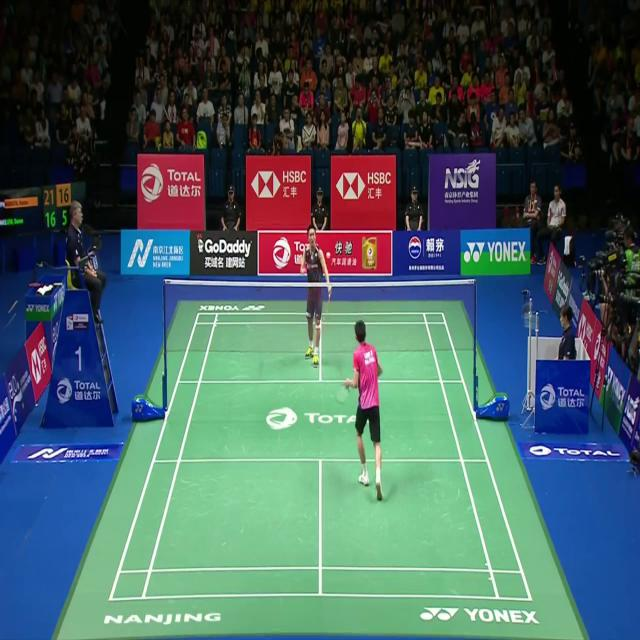Shuttlecock: (324, 248, 331, 259)
